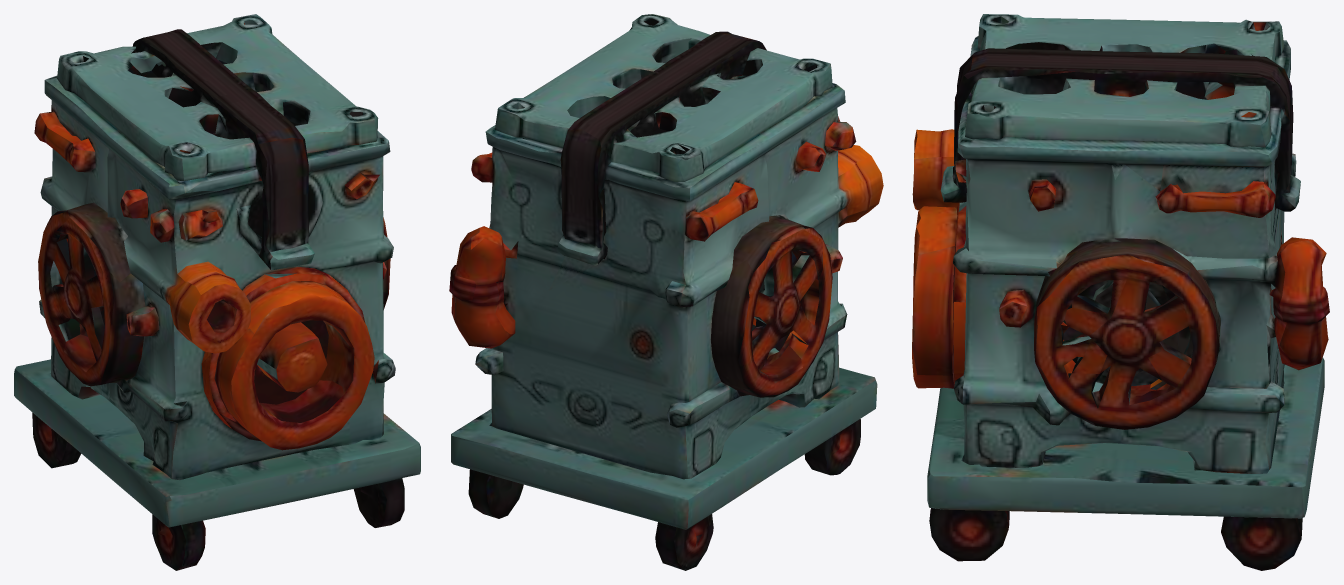
Rendered from engine_block.glb.
The picture shows the model from 3 angles, left to right: view 1: azimuth 30°, elevation 25°; view 2: azimuth 150°, elevation 25°; view 3: azimuth 270°, elevation 25°; orthographic projection. The views are drawn at different scales.
Visible parts, largest first — view 1: engine_block2; view 2: engine_block2; view 3: engine_block2.
Part boxes in pixels (x1=…): engine_block2: x1=14, y1=14, x2=420, y2=570; engine_block2: x1=449, y1=14, x2=883, y2=570; engine_block2: x1=912, y1=14, x2=1329, y2=570.
Size of the model in its own units: 0.7031 by 1 by 0.8395.
Materials: 1 (1 with a texture image).
